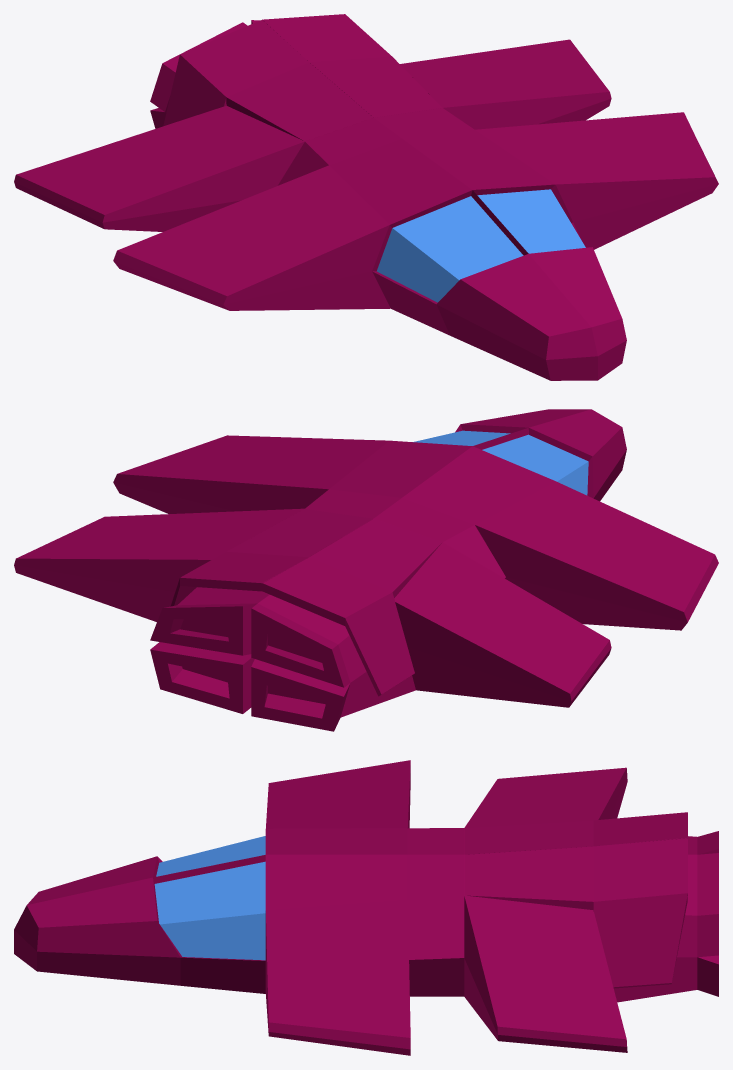
File: Spaceship_PlanetX.fbx
3 renders of one model, top to bottom at view 1: azimuth 30°, elevation 25°; view 2: azimuth 150°, elevation 25°; view 3: azimuth 270°, elevation 25°, orthographic.
Parts seen in each view (by area): view 1: Cube; view 2: Cube; view 3: Cube.
Boxes of the visible parts, <box> form: Cube: <box>14,14,718,380</box>; Cube: <box>14,409,718,731</box>; Cube: <box>14,760,718,1055</box>.
Bounding box in the file's own units: 853 × 171 × 902.
